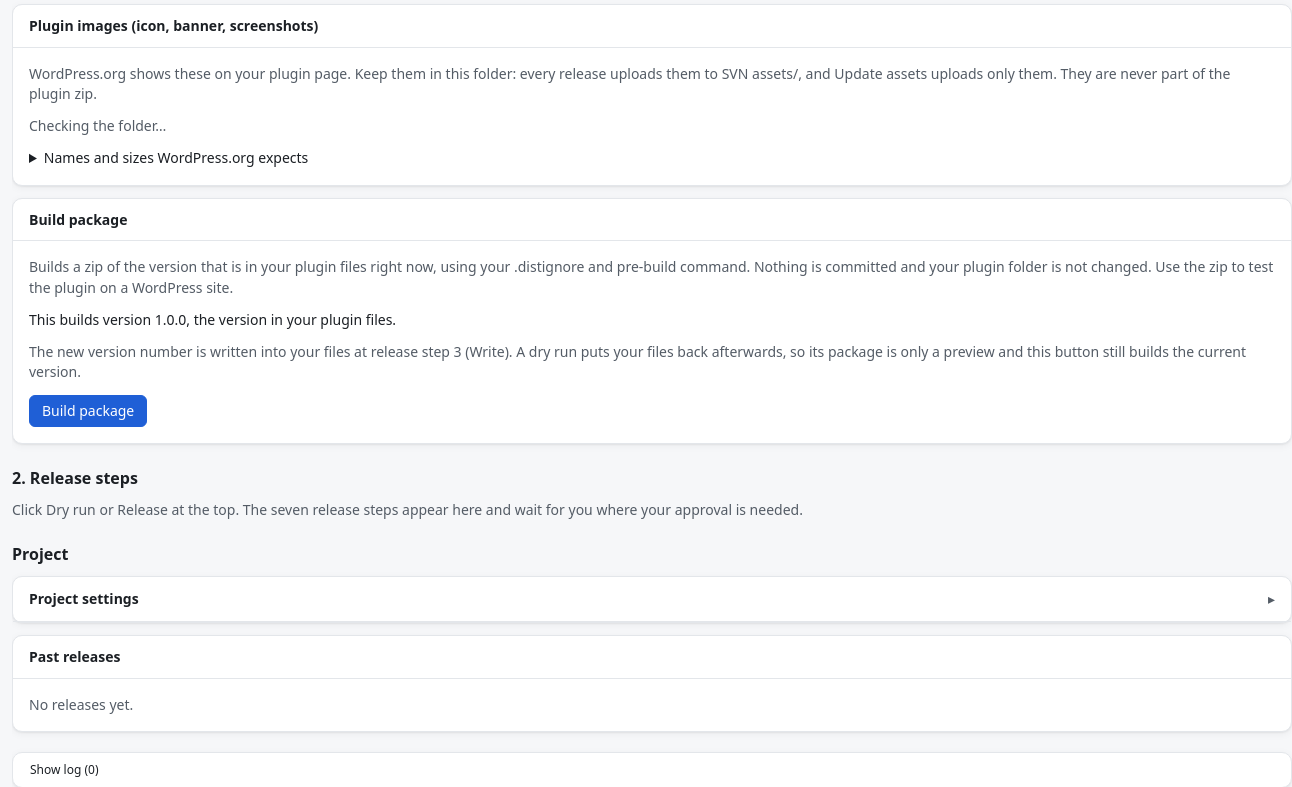
Project tools › builds the package without releasing and shows the zip
This screenshot has width=1292, height=787.
(page scrolled)
Click the button "Build package" at (88, 411), box top-left (29, 395), bottom-right (147, 427)
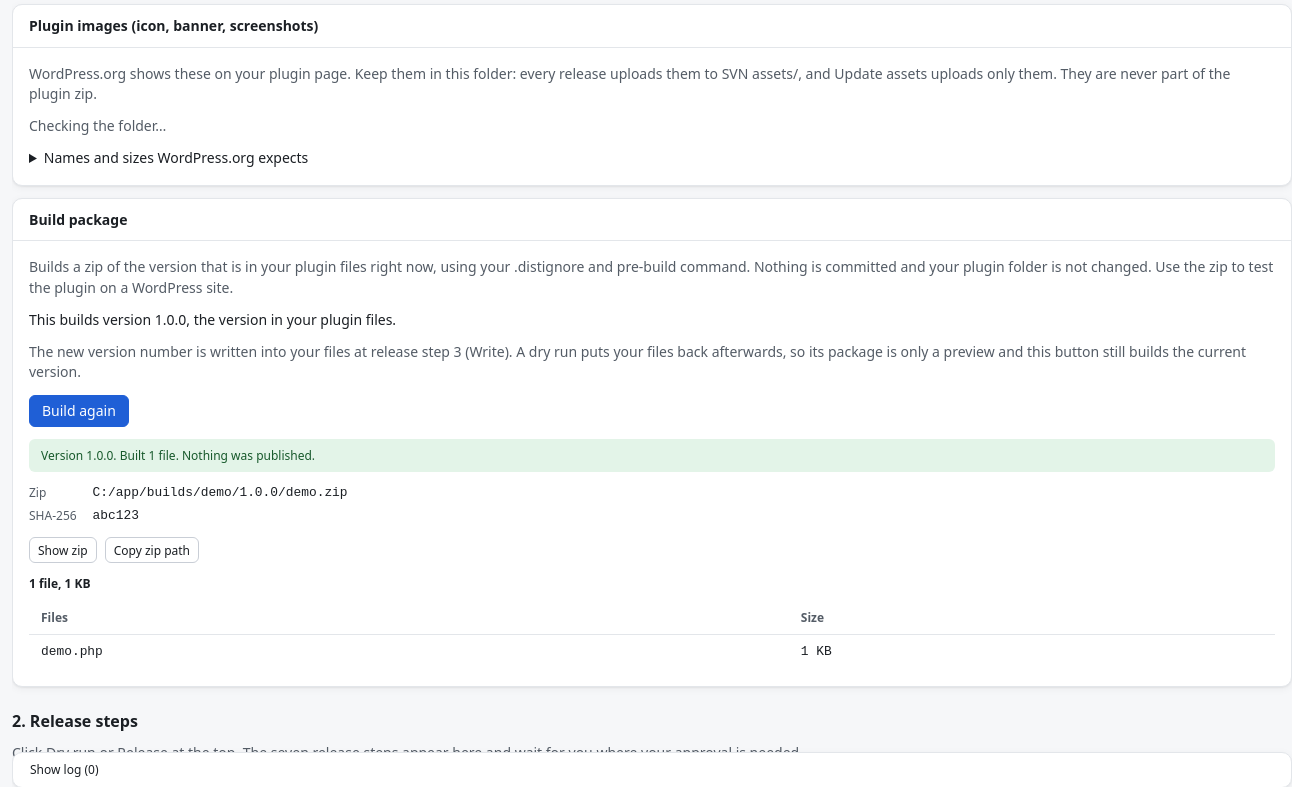
Expected: the text "Version 1.0.0. Built 1 file. Nothing was published." is shown, top-left (29, 439), bottom-right (1275, 472)
Expected: the button "Build again" is shown, top-left (29, 395), bottom-right (129, 427)
Expected: the text "C:/app/builds/demo/1.0.0/demo.zip" is shown, top-left (93, 485), bottom-right (348, 500)
